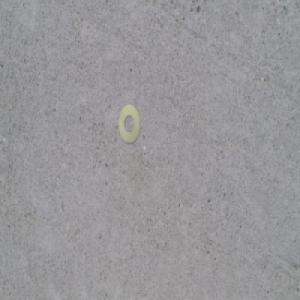Washer: (118, 103, 140, 144)
